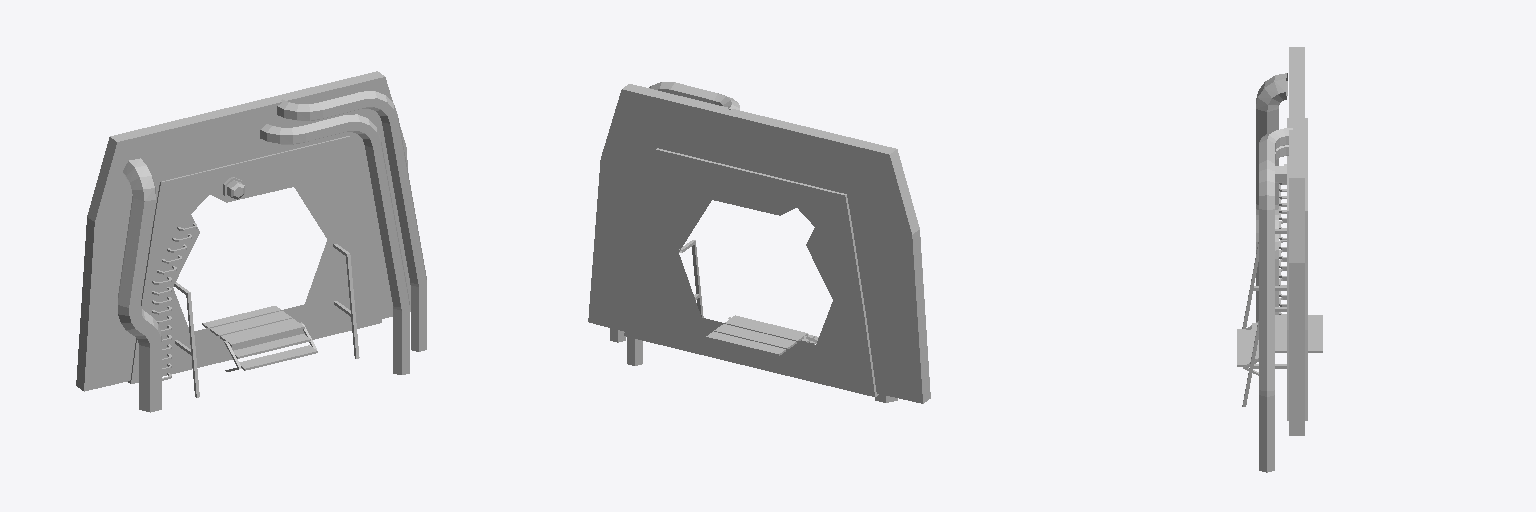
File: door frame.obj
The picture shows the model from 3 angles: view 1: azimuth 30°, elevation 25°; view 2: azimuth 150°, elevation 25°; view 3: azimuth 270°, elevation 25°; orthographic projection.
Visible parts, largest first — view 1: Plane, Cylinder.002, Cube.004; view 2: Plane, Cube.004, Cylinder.002; view 3: Plane, Cylinder.002, Cube.004.
Boxes of the visible parts, x1=… form: Plane: x1=76, y1=71, x2=410, y2=397; Cylinder.002: x1=118, y1=91, x2=426, y2=412; Cube.004: x1=202, y1=306, x2=317, y2=371; Plane: x1=588, y1=84, x2=930, y2=403; Cube.004: x1=706, y1=315, x2=818, y2=355; Cylinder.002: x1=610, y1=82, x2=897, y2=402; Plane: x1=1242, y1=47, x2=1307, y2=435; Cylinder.002: x1=1256, y1=73, x2=1292, y2=472; Cube.004: x1=1237, y1=315, x2=1322, y2=375.
Size of the model in its own units: 5.39 by 4.45 by 1.19.